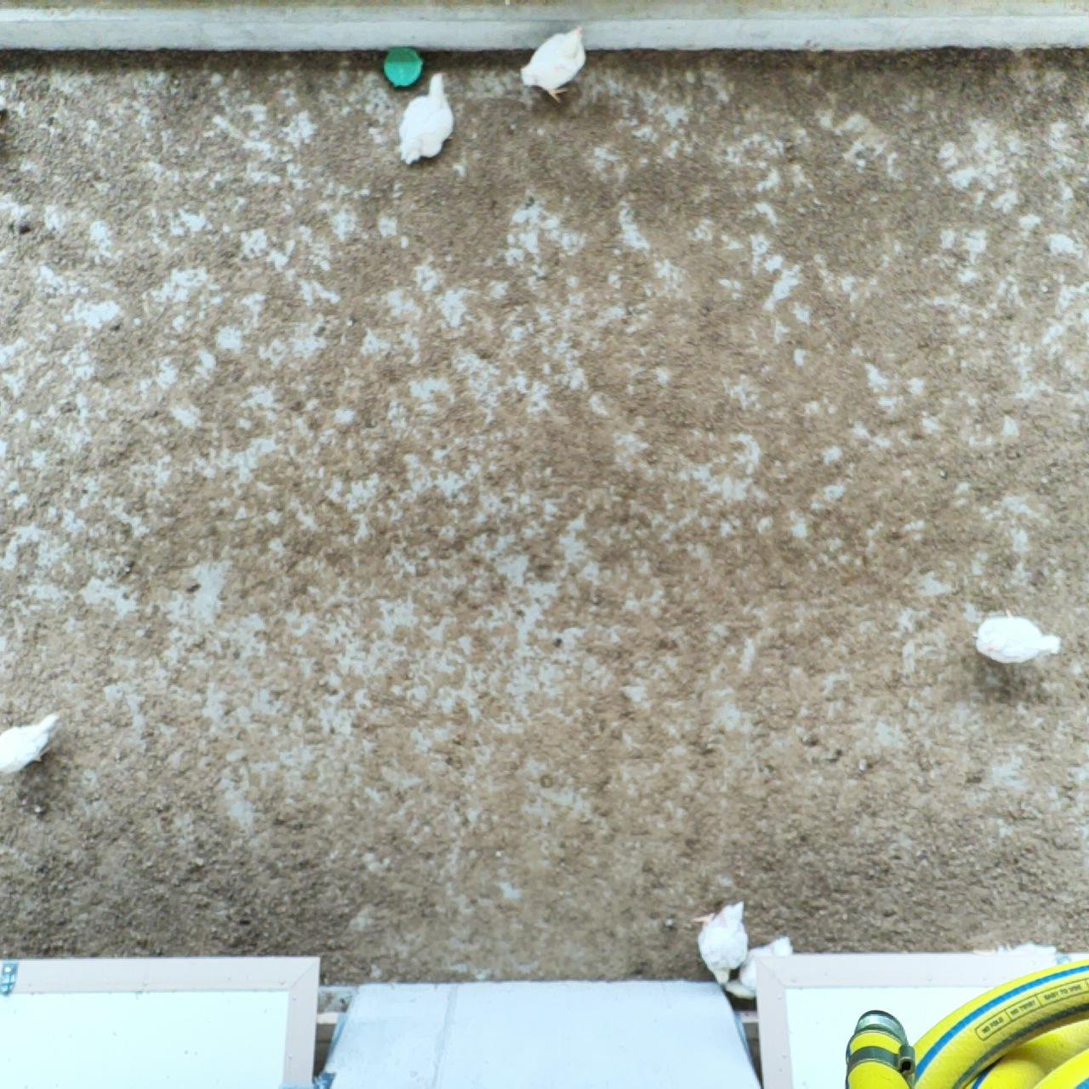chicken: (970, 601, 1065, 671), (517, 21, 590, 105), (395, 71, 456, 167), (688, 899, 751, 986), (725, 932, 795, 1001), (0, 710, 63, 775)
